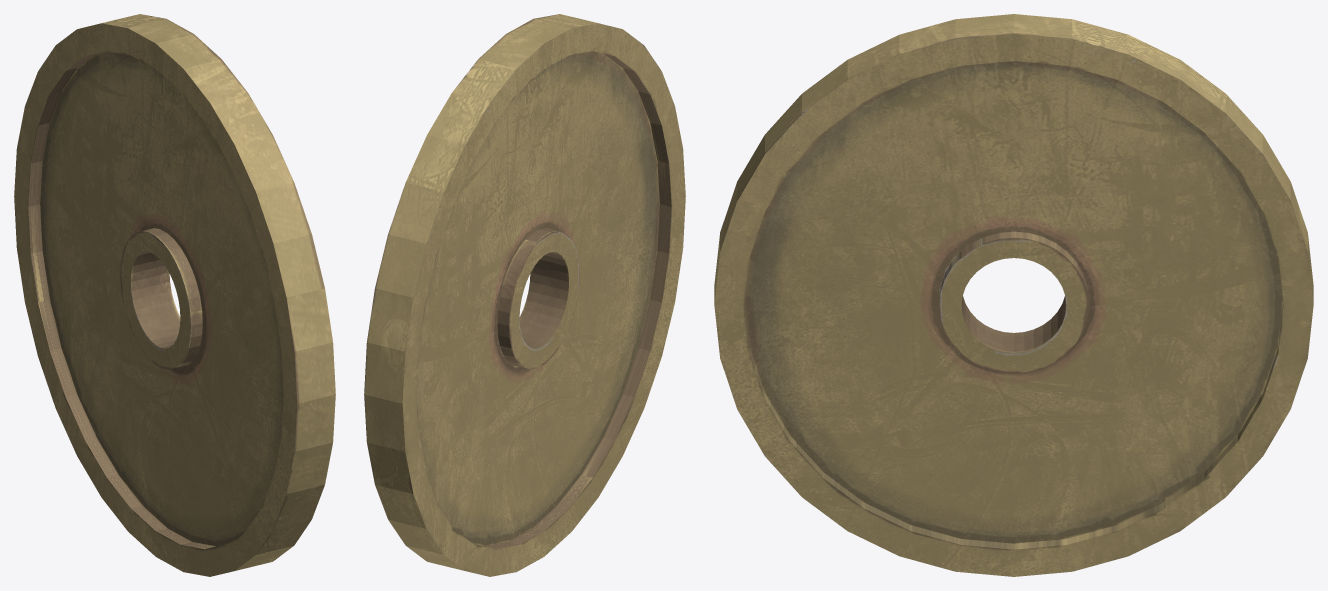
File: coin.dae
3 renders of one model, left to right at view 1: azimuth 30°, elevation 25°; view 2: azimuth 150°, elevation 25°; view 3: azimuth 270°, elevation 25°, orthographic. The views are drawn at different scales.
Visible parts, largest first — view 1: Cylinder; view 2: Cylinder; view 3: Cylinder.
Boxes of the visible parts, bbox=[...] form: Cylinder: bbox=[14, 14, 335, 576]; Cylinder: bbox=[364, 14, 685, 576]; Cylinder: bbox=[714, 14, 1313, 576].
Bounding box in the file's own units: 0.158 × 2 × 2.
